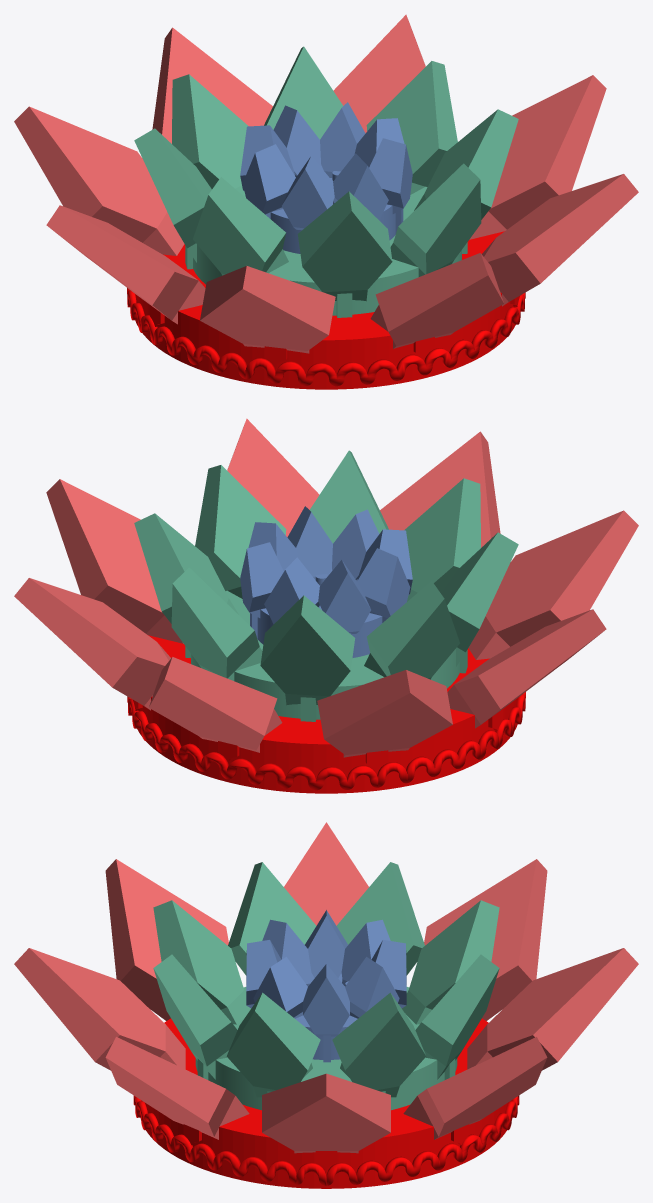
Rendered from design.glb.
3 renders of one model, top to bottom at view 1: azimuth 30°, elevation 25°; view 2: azimuth 150°, elevation 25°; view 3: azimuth 270°, elevation 25°, orthographic. The views are drawn at different scales.
Parts seen in each view (by area): view 1: 3DGeom-3 (×8), 3DGeom-22 (×8), 3DGeom-39 (×8), 3DGeom-1, 3DGeom-11 (×2), 3DGeom-21, 3DGeom-38; view 2: 3DGeom-3 (×8), 3DGeom-22 (×8), 3DGeom-39 (×8), 3DGeom-1, 3DGeom-11 (×2), 3DGeom-21, 3DGeom-38; view 3: 3DGeom-3 (×8), 3DGeom-22 (×8), 3DGeom-39 (×8), 3DGeom-1, 3DGeom-11 (×2), 3DGeom-21, 3DGeom-38.
Part boxes in pixels (left/top/right/bottom): 3DGeom-3 (×8): left=14, top=14, right=638, bottom=353; 3DGeom-22 (×8): left=134, top=46, right=518, bottom=301; 3DGeom-39 (×8): left=240, top=102, right=412, bottom=230; 3DGeom-1: left=135, top=231, right=515, bottom=389; 3DGeom-11 (×2): left=127, top=288, right=525, bottom=386; 3DGeom-21: left=193, top=186, right=461, bottom=315; 3DGeom-38: left=270, top=164, right=395, bottom=253; 3DGeom-3 (×8): left=14, top=418, right=638, bottom=757; 3DGeom-22 (×8): left=134, top=450, right=518, bottom=705; 3DGeom-39 (×8): left=240, top=506, right=412, bottom=633; 3DGeom-1: left=137, top=635, right=517, bottom=793; 3DGeom-11 (×2): left=127, top=692, right=525, bottom=790; 3DGeom-21: left=191, top=590, right=459, bottom=719; 3DGeom-38: left=257, top=568, right=382, bottom=657; 3DGeom-3 (×8): left=14, top=822, right=638, bottom=1153; 3DGeom-22 (×8): left=153, top=862, right=499, bottom=1097; 3DGeom-39 (×8): left=246, top=910, right=406, bottom=1036; 3DGeom-1: left=140, top=1018, right=512, bottom=1188; 3DGeom-11 (×2): left=133, top=1095, right=519, bottom=1185; 3DGeom-21: left=195, top=987, right=457, bottom=1110; 3DGeom-38: left=295, top=973, right=357, bottom=1059.
Size of the model in its own units: 0.0848 by 0.0274 by 0.0848.
